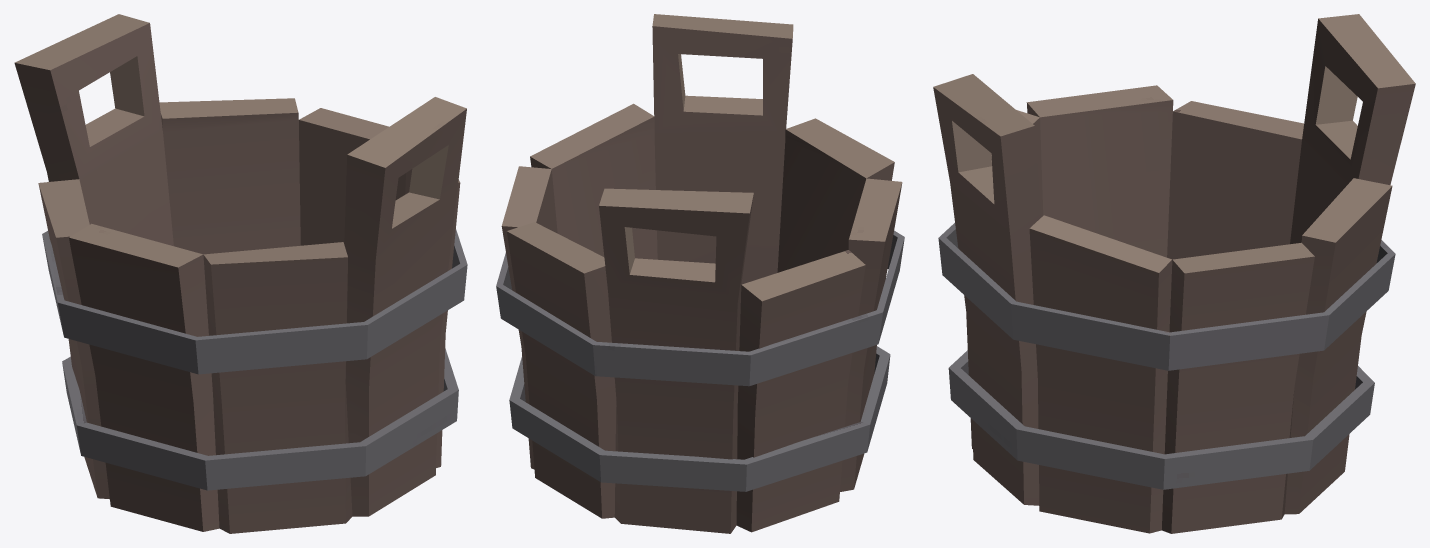
File: bucket.glb
3 views of the same model, side by side, from view 1: azimuth 30°, elevation 25°; view 2: azimuth 150°, elevation 25°; view 3: azimuth 270°, elevation 25° (orthographic). The views are drawn at different scales.
Visible parts, largest first — view 1: bucket; view 2: bucket; view 3: bucket.
Part boxes in pixels (<box>): bucket: <box>14,14,467,533</box>; bucket: <box>496,14,904,533</box>; bucket: <box>933,14,1415,533</box>.
Bounding box in the file's own units: 3.32 × 3.19 × 3.51.
1 material, 1 textured.
